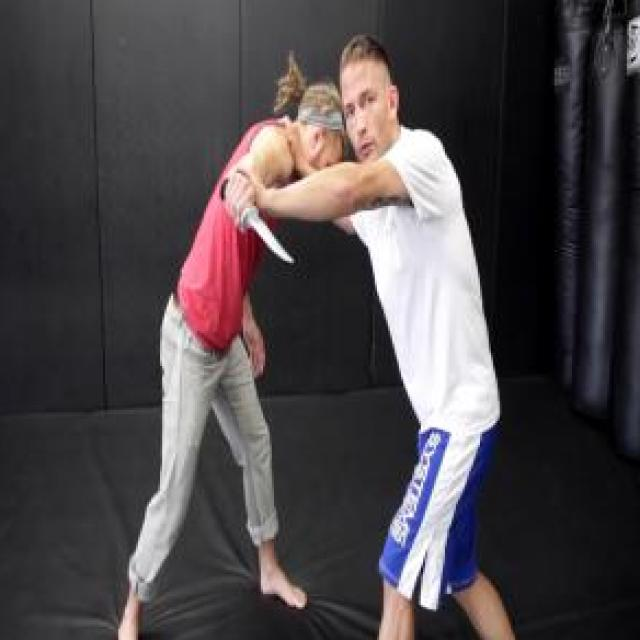knife: (215, 171, 300, 271)
